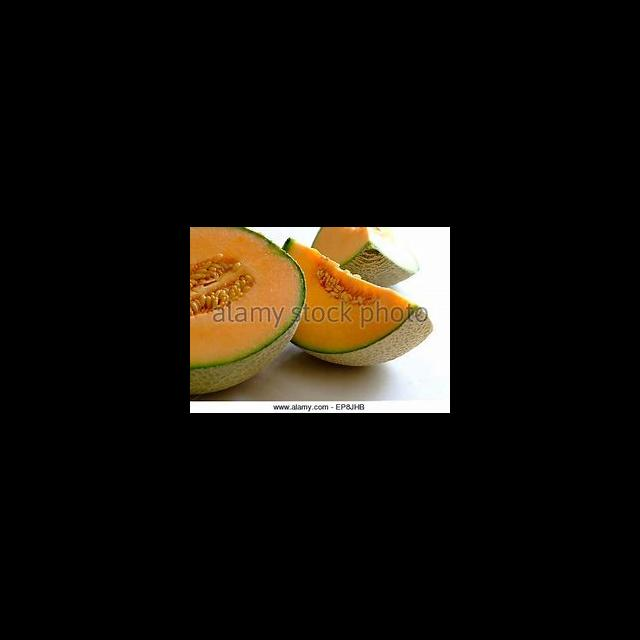Hami Melon: (284, 237, 434, 369), (190, 227, 307, 394)
